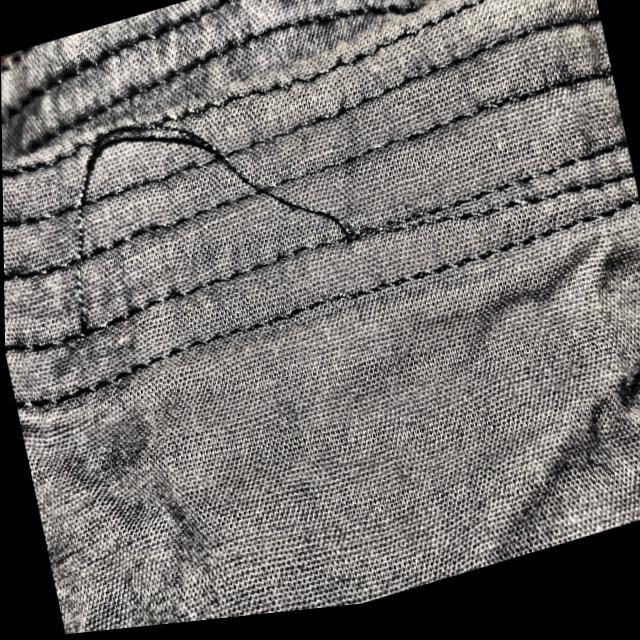Stitch: (1, 46, 391, 382)
